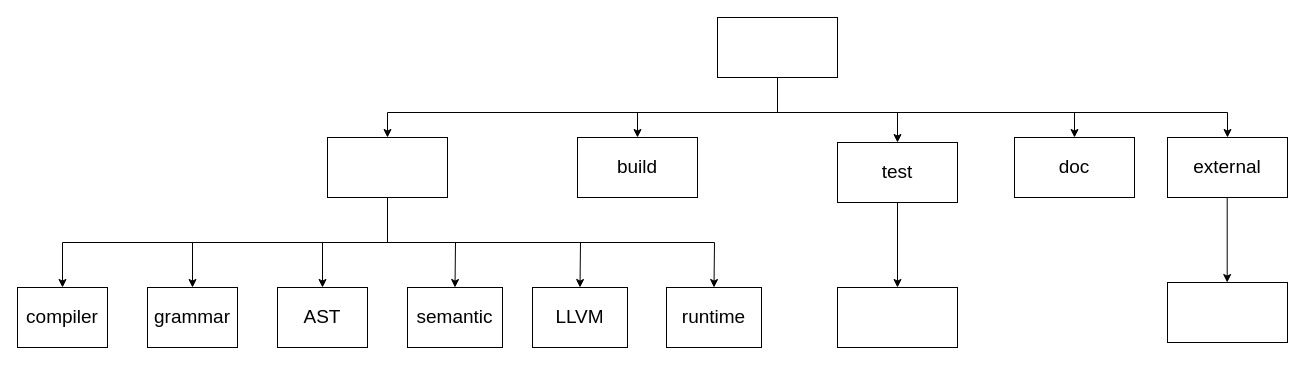
Image size: 1305x365. Some labels were removed from this diagram. The shapes that lost their labels are listed below. From the top down, each one's centre as x and y in pixels, then its label:
pixel 777 47: TFG
pixel 387 167: src
pixel 897 317: input
pixel 1227 312: submodule: argparse
